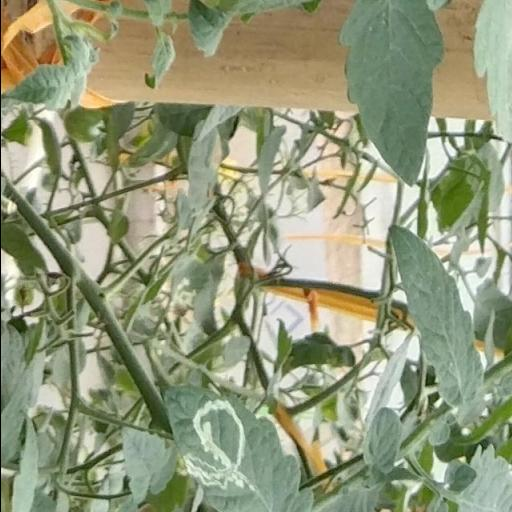Healthy: (332, 0, 448, 191), (382, 222, 486, 410)
Leaf Miner: (162, 384, 314, 512)
